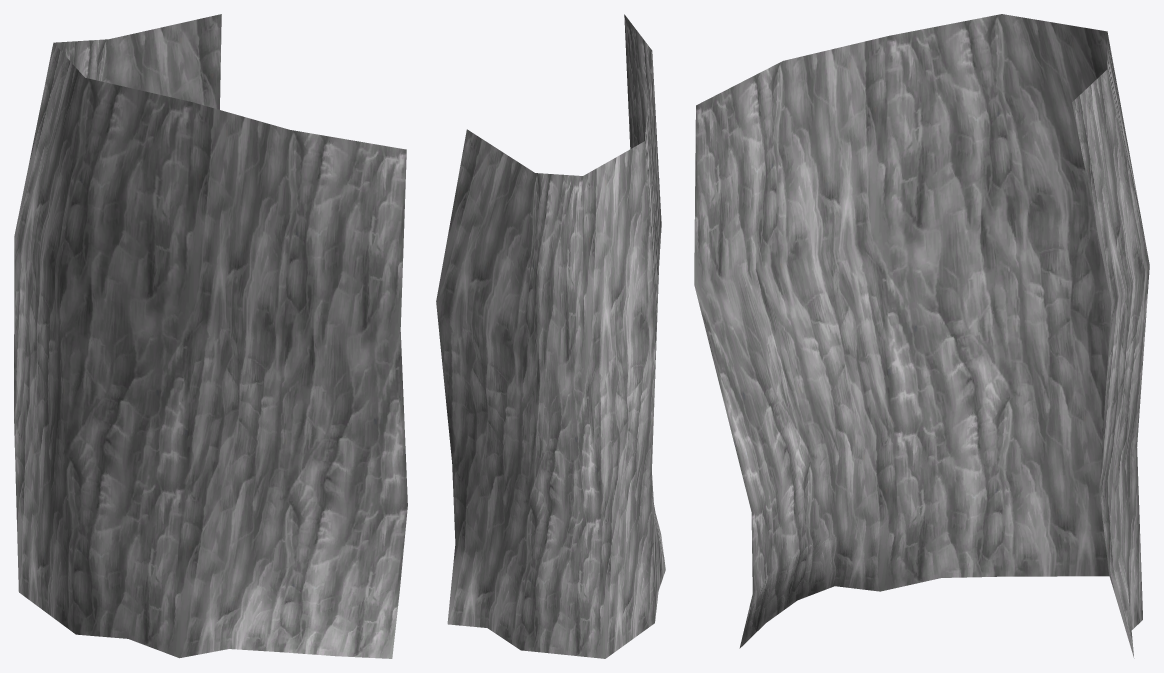
Rendered from SWORDLIGHT20_PS-AREA03_06.fbx.
3 views of the same model, side by side, from view 1: azimuth 30°, elevation 25°; view 2: azimuth 150°, elevation 25°; view 3: azimuth 270°, elevation 25° (orthographic). The views are drawn at different scales.
Visible parts, largest first — view 1: SWORDLIGHT20_PS-AREA03_06; view 2: SWORDLIGHT20_PS-AREA03_06; view 3: SWORDLIGHT20_PS-AREA03_06.
Part boxes in pixels (<box>): SWORDLIGHT20_PS-AREA03_06: <box>14,14,407,658</box>; SWORDLIGHT20_PS-AREA03_06: <box>436,14,665,658</box>; SWORDLIGHT20_PS-AREA03_06: <box>694,14,1149,658</box>.
Size of the model in its own units: 63712 by 154506 by 111446.
1 material, 1 textured.
